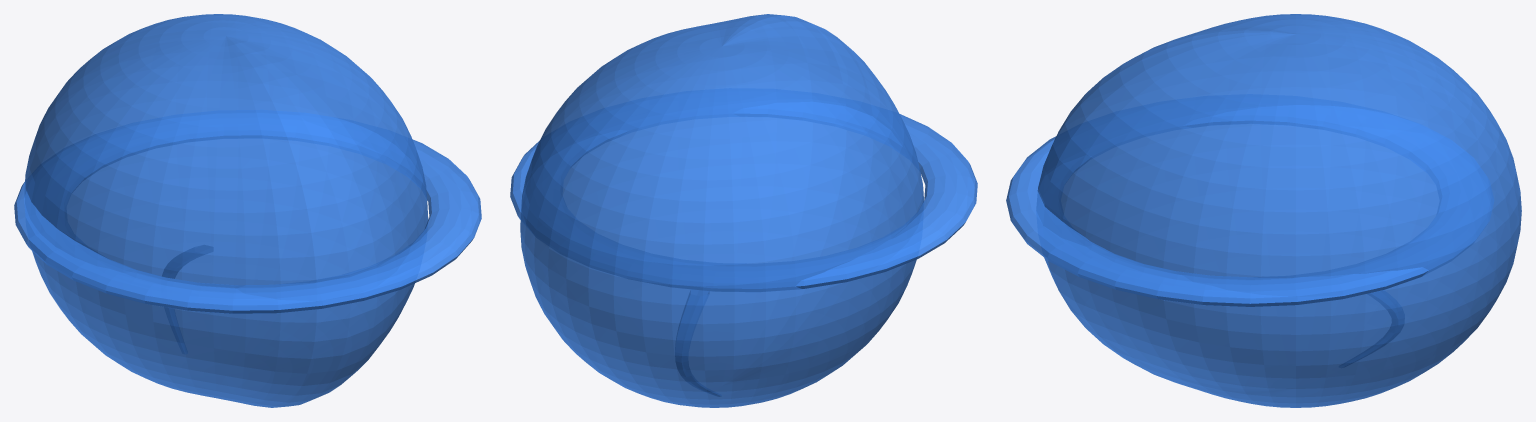
Rendered from cam_eye_creature.obj.
The picture shows the model from 3 angles, left to right: view 1: azimuth 30°, elevation 25°; view 2: azimuth 150°, elevation 25°; view 3: azimuth 270°, elevation 25°; orthographic projection. The views are drawn at different scales.
Parts seen in each view (by area): view 1: cam_eye_creature; view 2: cam_eye_creature; view 3: cam_eye_creature.
Boxes of the visible parts, left/top/right/bottom form: cam_eye_creature: left=14, top=14, right=481, bottom=407; cam_eye_creature: left=510, top=14, right=977, bottom=407; cam_eye_creature: left=1006, top=14, right=1521, bottom=407.
Bounding box in the file's own units: 2.14 × 1.73 × 2.26.
